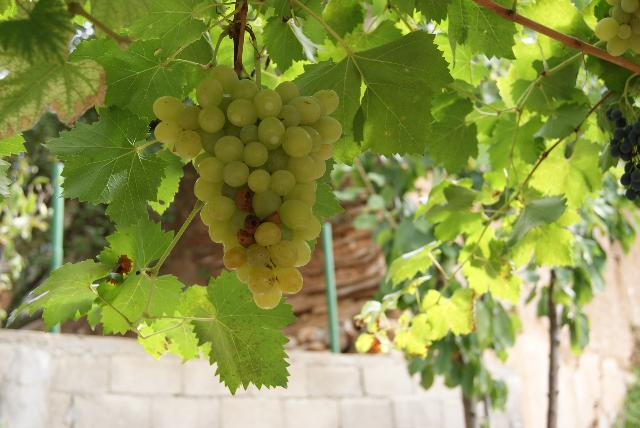grapes: (154, 65, 341, 310)
